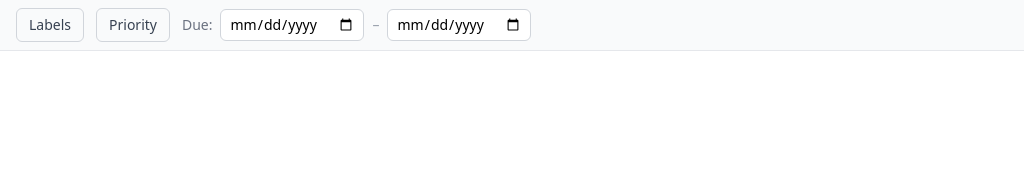
FilterBar › shows badge count on label button when labels are selected
Click the button with aria-label "Filter by label": click(50, 25) [16,8,84,42]
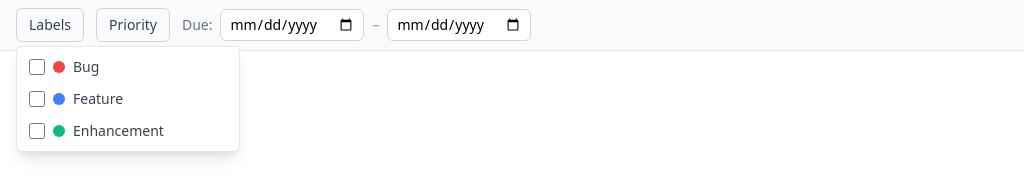
Click the checkbox labelled "Bug": click(37, 67) [29,59,45,75]
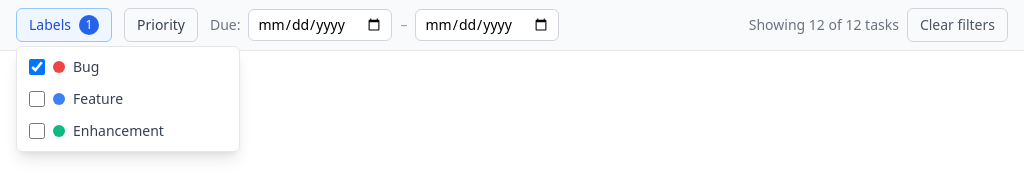
Expected: the button with aria-label "Filter by label" reads "Labels 1", [16,8,112,42]
